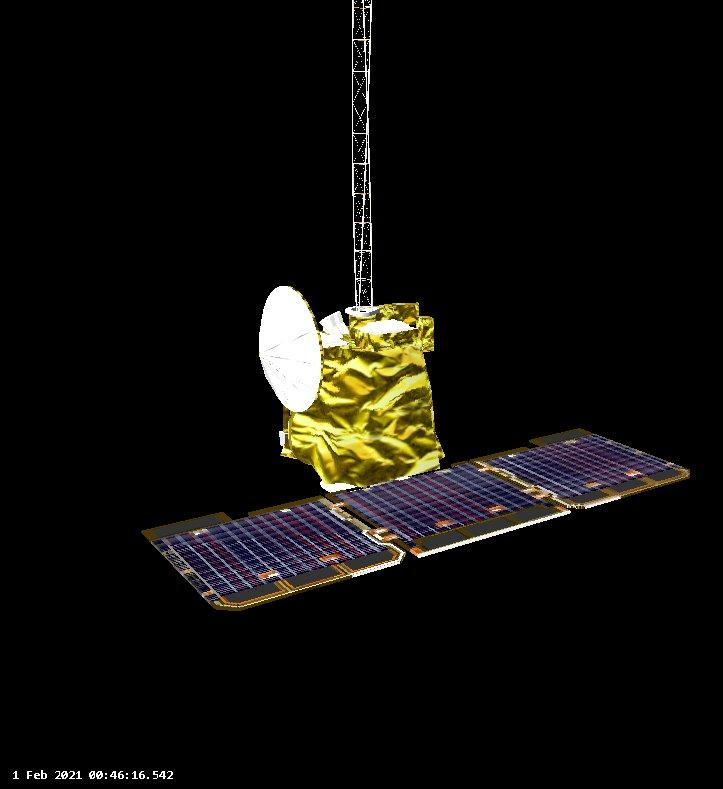antenna: (340, 0, 384, 320), (257, 282, 323, 419)
body: (274, 295, 450, 497)
solar: (134, 419, 696, 620)
